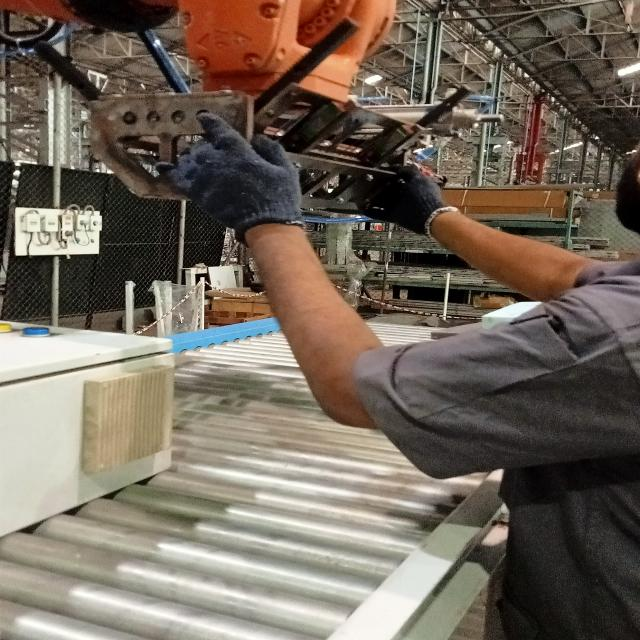Gloves-Detection: (171, 106, 314, 234), (364, 163, 451, 236)
